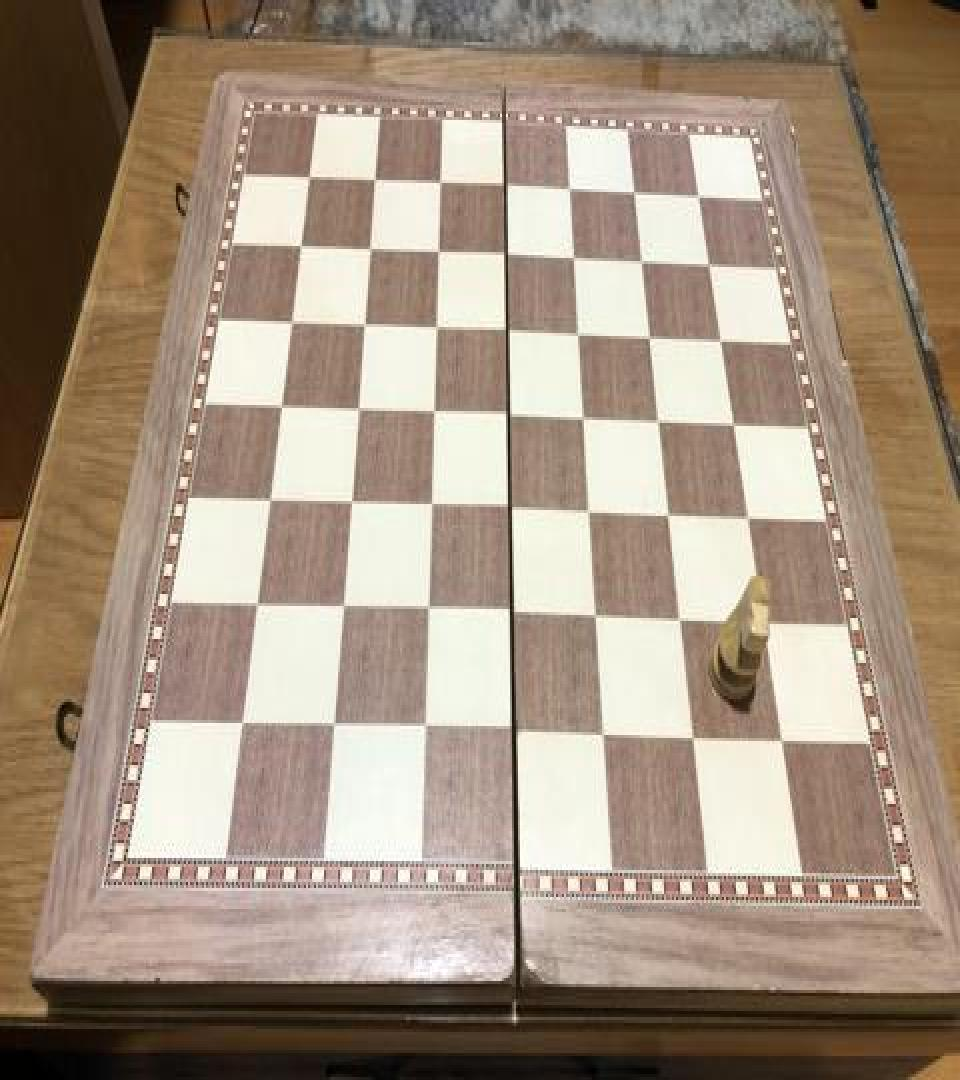xcorner: (667, 601, 691, 638), (499, 595, 523, 632), (590, 718, 614, 755), (410, 712, 434, 749), (686, 174, 710, 210), (622, 171, 646, 207), (558, 168, 582, 204), (493, 165, 517, 201), (428, 164, 452, 200), (363, 160, 387, 196), (298, 158, 322, 194), (697, 243, 721, 279), (629, 240, 653, 276), (562, 237, 586, 273), (494, 236, 518, 272), (426, 232, 450, 268), (358, 230, 382, 266), (290, 226, 314, 262), (708, 320, 732, 356), (637, 316, 661, 352), (566, 314, 590, 350), (495, 310, 519, 346), (424, 309, 448, 345), (352, 306, 376, 342), (280, 303, 304, 339), (721, 404, 745, 440), (646, 400, 670, 436), (571, 399, 595, 435), (496, 396, 520, 432), (421, 393, 445, 429), (345, 390, 369, 426), (269, 387, 293, 423), (735, 498, 759, 534), (656, 495, 680, 531), (577, 492, 601, 528), (497, 490, 521, 526), (418, 488, 442, 524), (337, 484, 361, 520), (257, 482, 281, 518), (751, 603, 775, 639), (583, 598, 607, 634), (414, 592, 438, 628), (329, 591, 353, 627), (244, 588, 268, 624), (768, 723, 792, 759), (679, 720, 703, 756), (500, 716, 524, 752), (319, 711, 343, 747), (228, 708, 252, 744)
